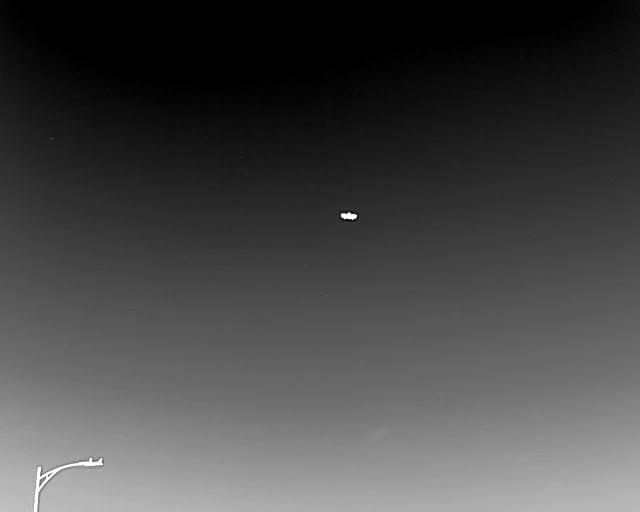fpv-drone: (339, 210, 358, 222)
